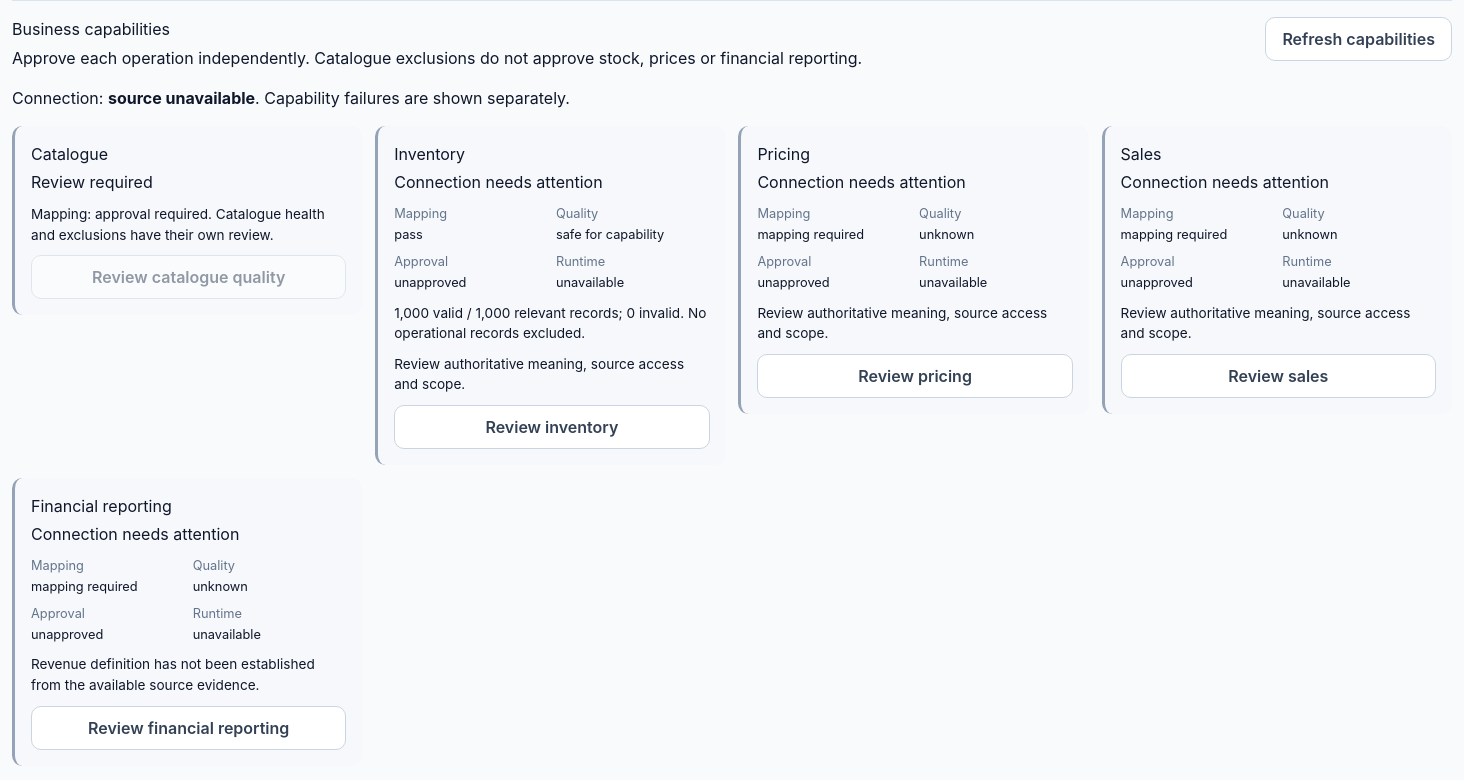
Test: keeps source recovery actionable when discovery is unavailable
Click the button "Review inventory": (552, 427) [394,405,710,449]
(page scrolled)
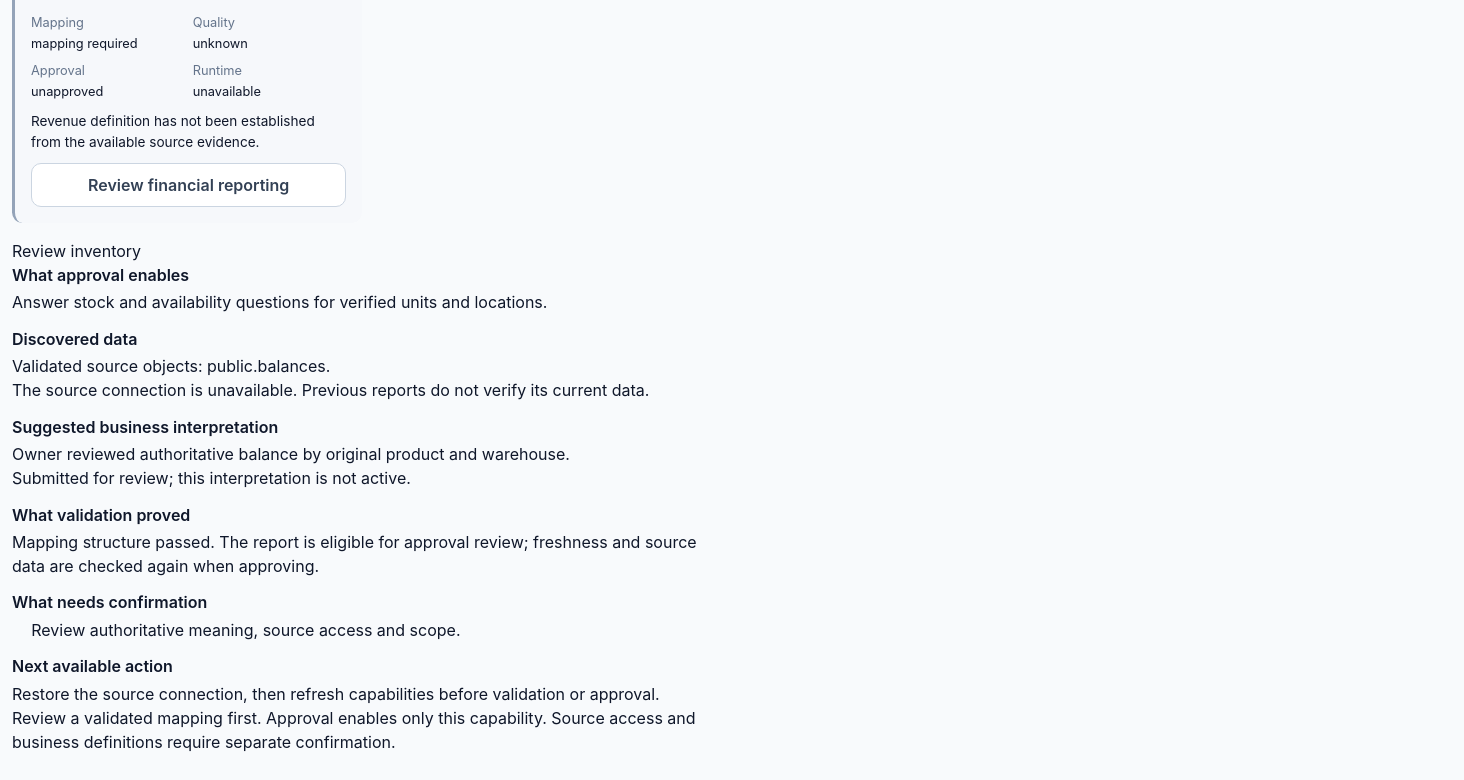
Now the element named "Inventory next steps" shows "Previous reports do not verify its current data", box [12,380,649,400]
